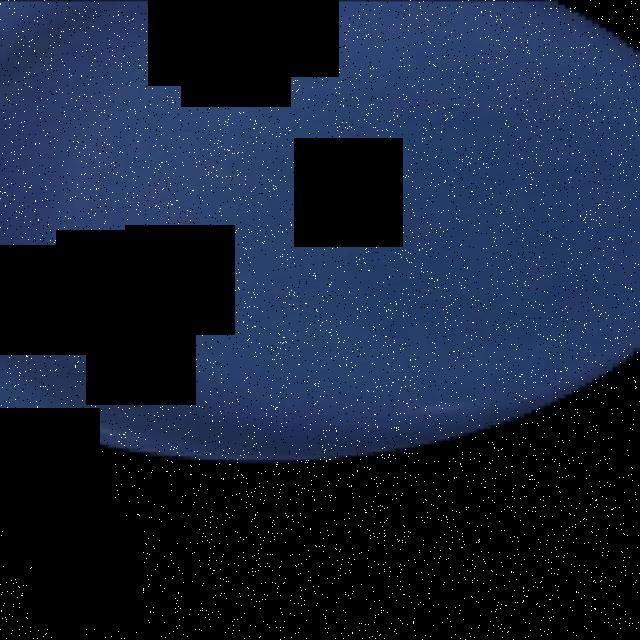Neptune: (0, 0, 640, 462)
